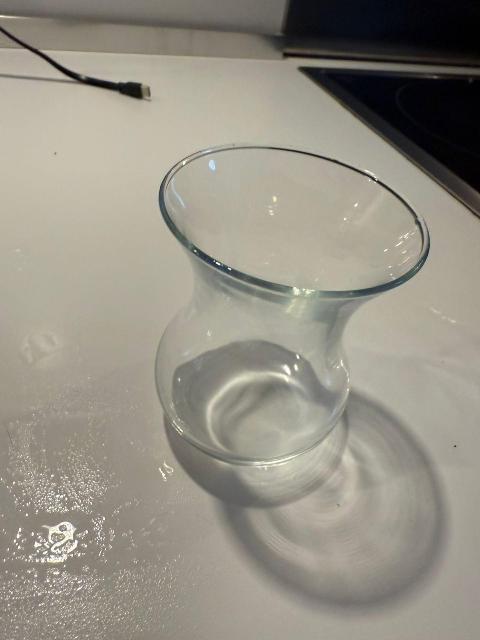Cam: (135, 142, 431, 468)
